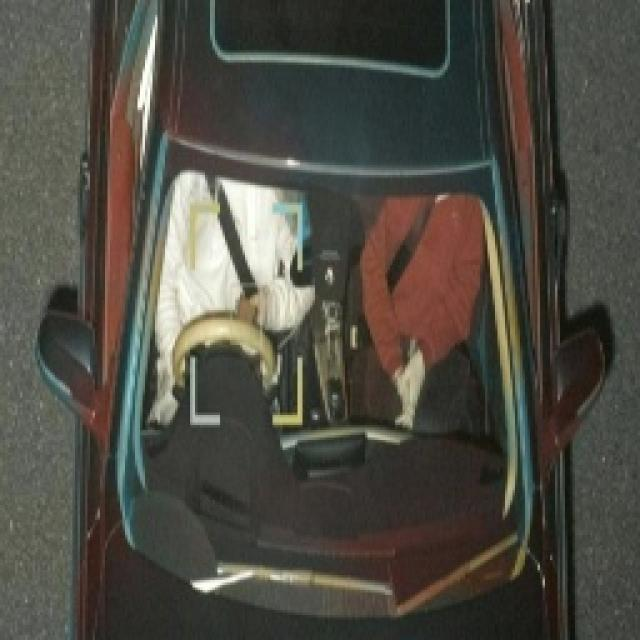windshield: (121, 136, 528, 593)
